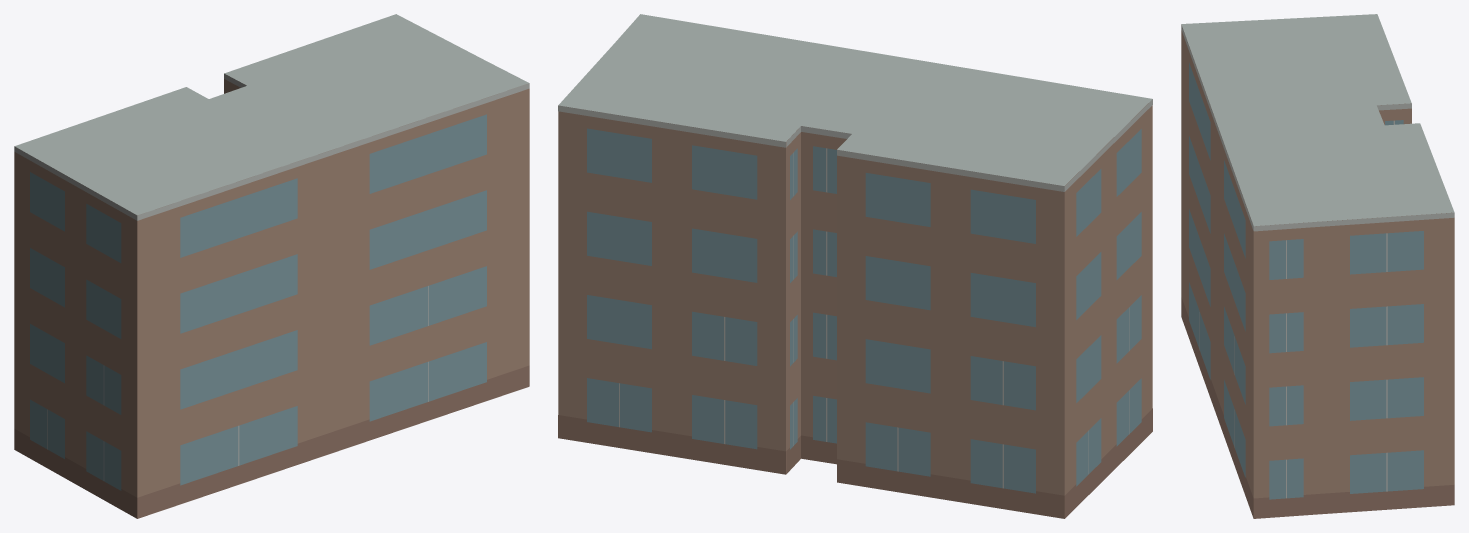
The model's file is survey-upis-32670476.glb.
3 views of the same model, side by side, from view 1: azimuth 30°, elevation 25°; view 2: azimuth 150°, elevation 25°; view 3: azimuth 270°, elevation 25° (orthographic). The views are drawn at different scales.
Parts seen in each view (by area): view 1: survey-upis-32670476.tmp; view 2: survey-upis-32670476.tmp; view 3: survey-upis-32670476.tmp.
Part boxes in pixels (box(x1,y1,x2,y2)): survey-upis-32670476.tmp: box(14, 14, 529, 518); survey-upis-32670476.tmp: box(558, 14, 1152, 518); survey-upis-32670476.tmp: box(1181, 14, 1454, 518).
Size of the model in its own units: 21.32 by 13.7 by 11.61.
